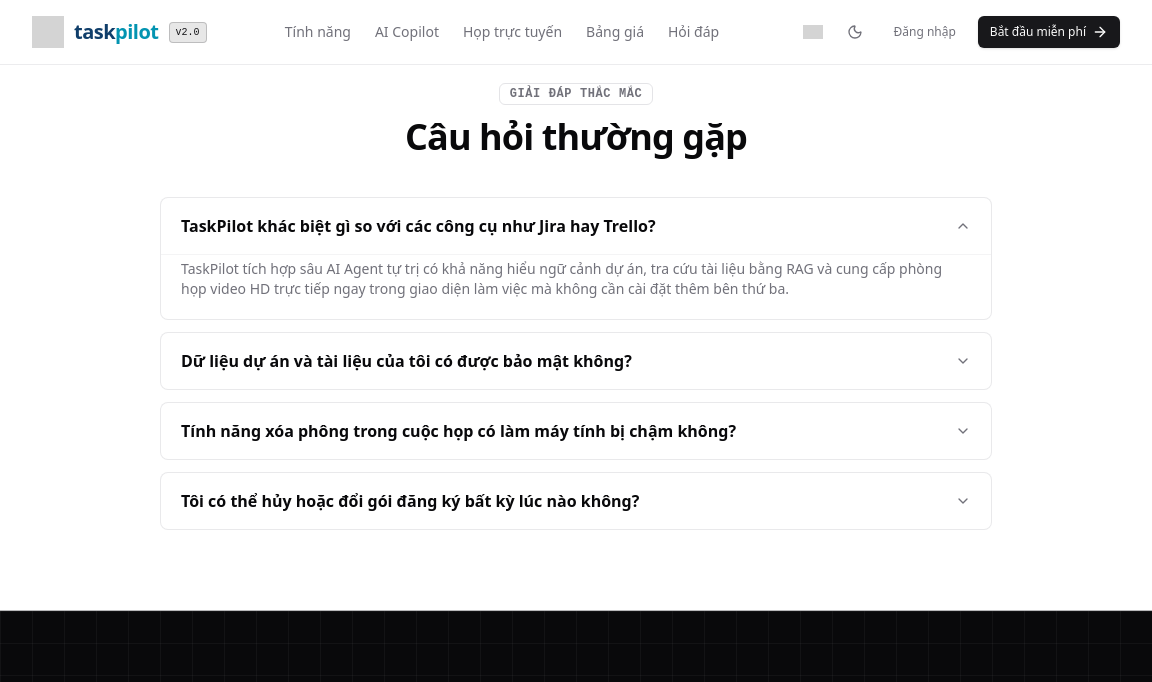
Test: LandingPage Component & SEO Unit Tests › expands FAQ answers when accordion question is clicked
The image size is (1152, 682).
(page scrolled)
Click second question (Data security)
Click the button "Dữ liệu dự án và tài liệu của tôi có được bảo mật không?": (576, 361) [161,333,991,389]
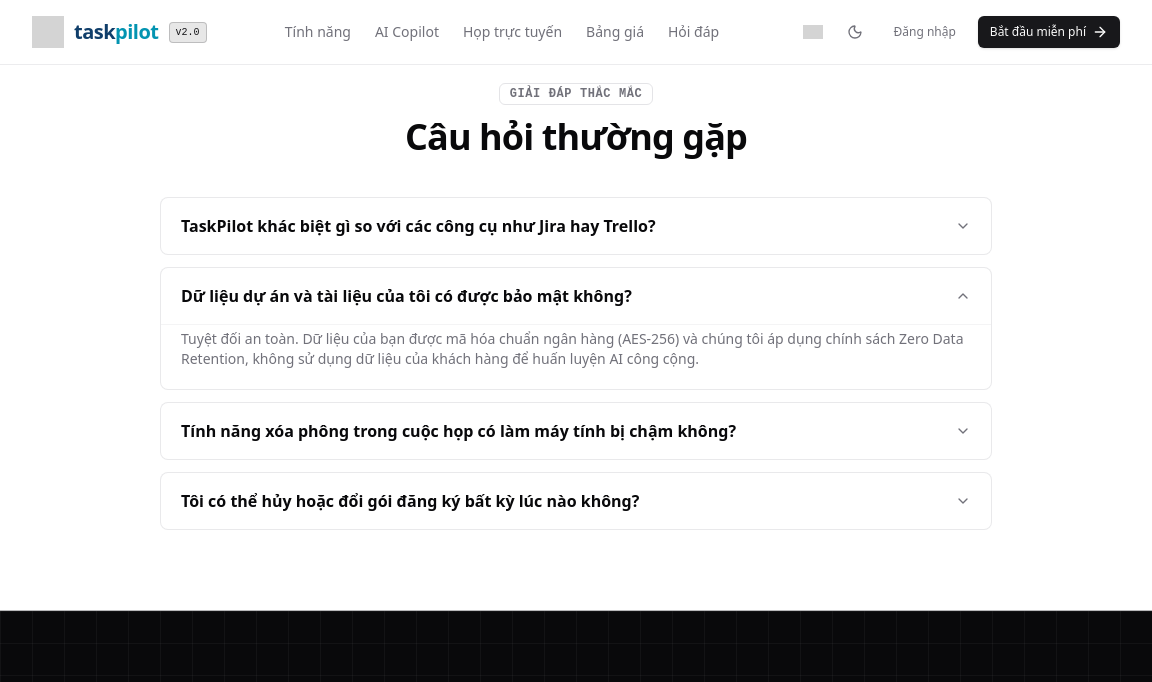
Expected: the text "Tuyệt đối an toàn. Dữ liệu của bạn được mã hóa chuẩn ngân hàng" is shown, [181,329,964,368]
